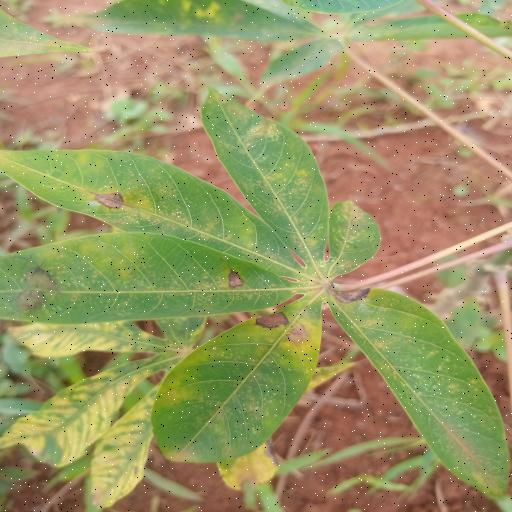Cassava_Mosaic: (0, 90, 512, 507)
